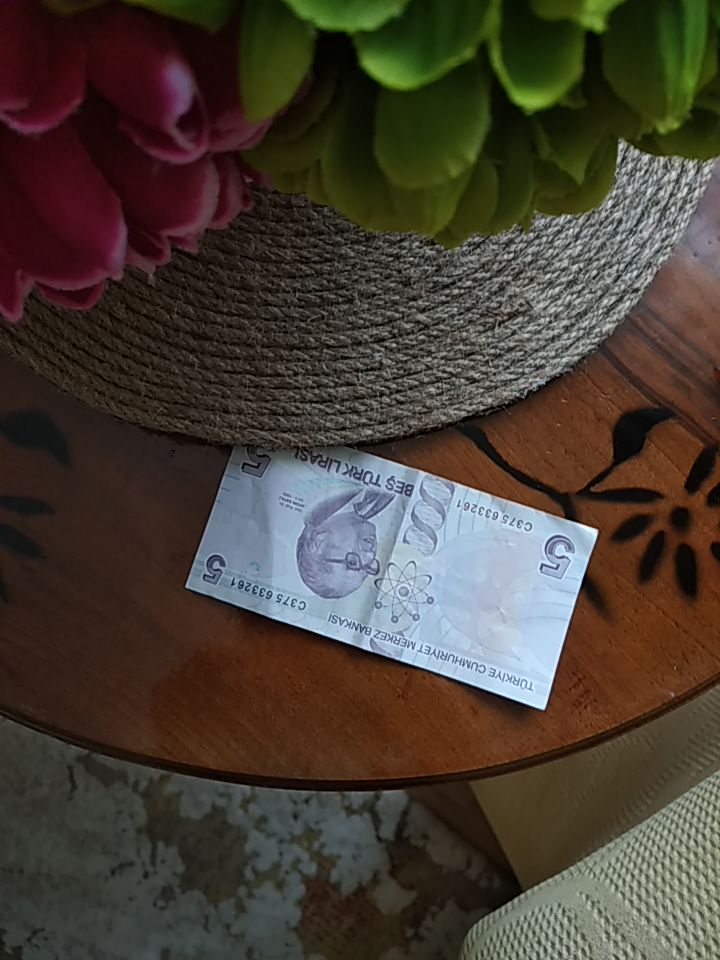5TL: (183, 436, 600, 715)
